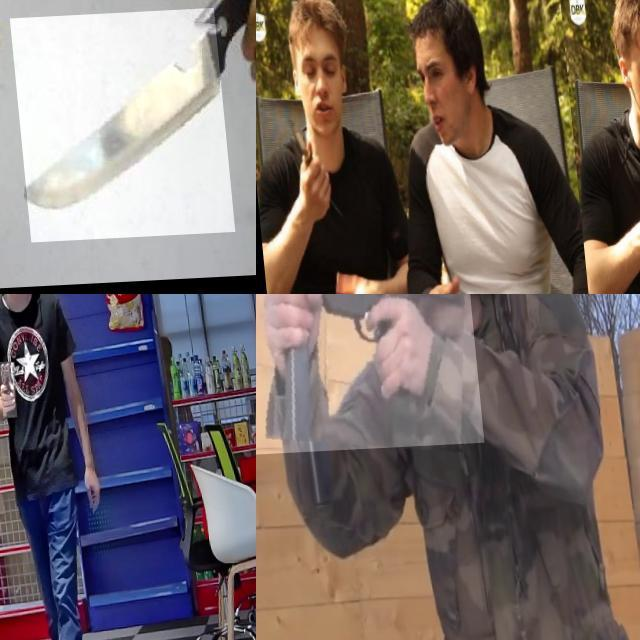-: (2, 12, 223, 246), (537, 0, 640, 51), (276, 110, 326, 198), (621, 139, 640, 229), (256, 0, 297, 40)
gun-knife-thesis - v11 Yolov5 augmented: (256, 294, 476, 459), (0, 365, 13, 421)
